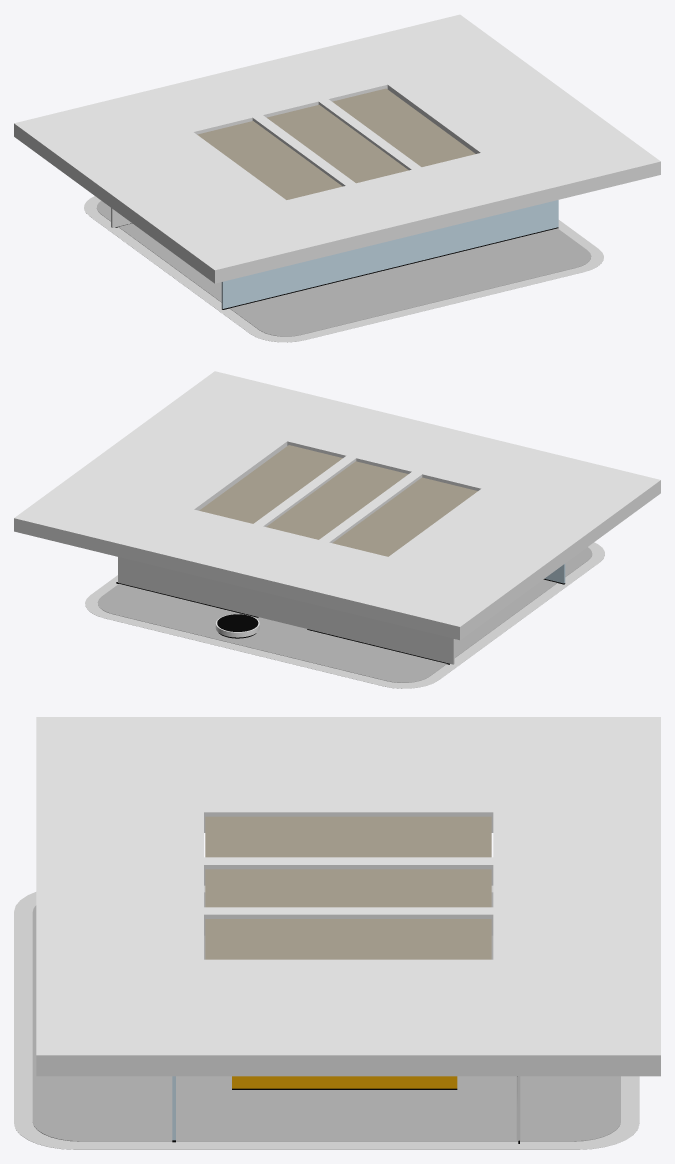
The model's file is Exhibition Mocaad v2.FBX.
3 renders of one model, top to bottom at view 1: azimuth 30°, elevation 25°; view 2: azimuth 150°, elevation 25°; view 3: azimuth 270°, elevation 25°, orthographic. The views are drawn at different scales.
Visible parts, largest first — view 1: Rectangle276, Rectangle014, Rectangle290, Rectangle287, Rectangle007, Rectangle289, Rectangle288, Rectangle267; view 2: Rectangle276, Rectangle014, Rectangle260, Rectangle287, Rectangle289, Rectangle288, Rectangle007, Circle768; view 3: Rectangle276, Rectangle014, Rectangle287, Rectangle289, Rectangle007, Rectangle288, Rectangle010.
Boxes of the visible parts, bbox=[...] form: Rectangle276: bbox=[14, 14, 660, 283]; Rectangle014: bbox=[96, 200, 591, 336]; Rectangle290: bbox=[221, 200, 558, 308]; Rectangle287: bbox=[197, 121, 342, 199]; Rectangle007: bbox=[84, 196, 603, 342]; Rectangle289: bbox=[332, 88, 475, 166]; Rectangle288: bbox=[267, 105, 408, 183]; Rectangle267: bbox=[222, 227, 558, 309]; Rectangle276: bbox=[14, 371, 660, 640]; Rectangle014: bbox=[97, 547, 592, 682]; Rectangle260: bbox=[118, 557, 454, 664]; Rectangle287: bbox=[332, 477, 477, 556]; Rectangle289: bbox=[199, 445, 342, 523]; Rectangle288: bbox=[266, 461, 408, 539]; Rectangle007: bbox=[85, 542, 604, 688]; Circle768: bbox=[217, 614, 258, 638]; Rectangle276: bbox=[36, 717, 660, 1076]; Rectangle014: bbox=[32, 892, 620, 1141]; Rectangle287: bbox=[205, 816, 491, 857]; Rectangle289: bbox=[205, 919, 491, 959]; Rectangle007: bbox=[14, 885, 639, 1149]; Rectangle288: bbox=[205, 869, 491, 907]; Rectangle010: bbox=[232, 1076, 457, 1088].
Bounding box in the file's own units: 3200 × 582 × 2585.
